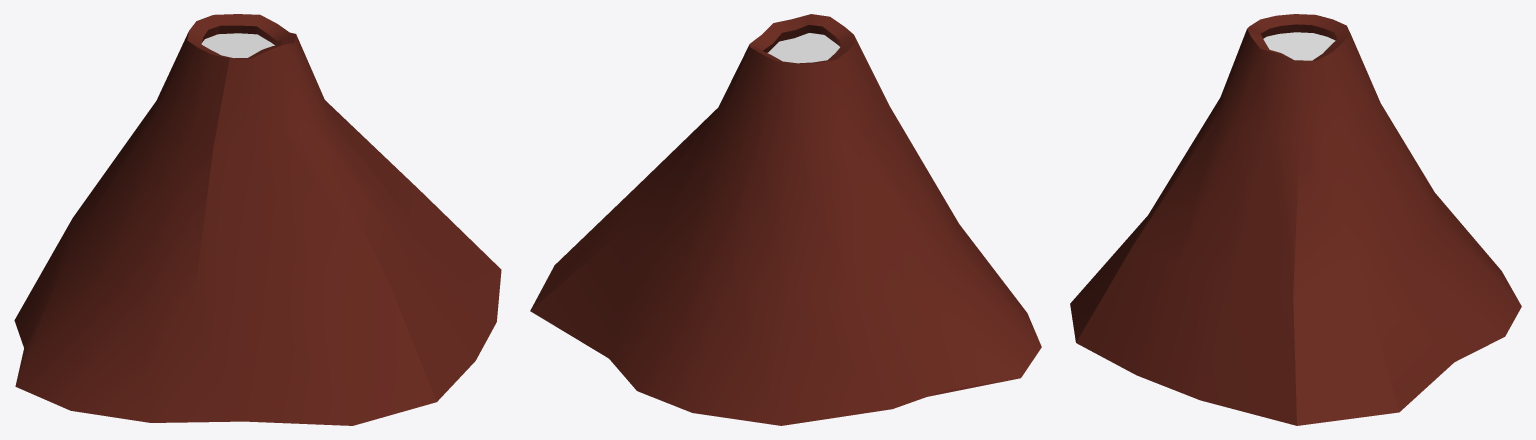
File: Volcan.fbx
3 renders of one model, left to right at view 1: azimuth 30°, elevation 25°; view 2: azimuth 150°, elevation 25°; view 3: azimuth 270°, elevation 25°, orthographic. The views are drawn at different scales.
Parts seen in each view (by area): view 1: Cylinder; view 2: Cylinder; view 3: Cylinder.
Part boxes in pixels (x1=…): Cylinder: x1=14, y1=14, x2=501, y2=425; Cylinder: x1=530, y1=14, x2=1041, y2=425; Cylinder: x1=1070, y1=14, x2=1521, y2=425.
Size of the model in its own units: 394 by 236 by 343.
